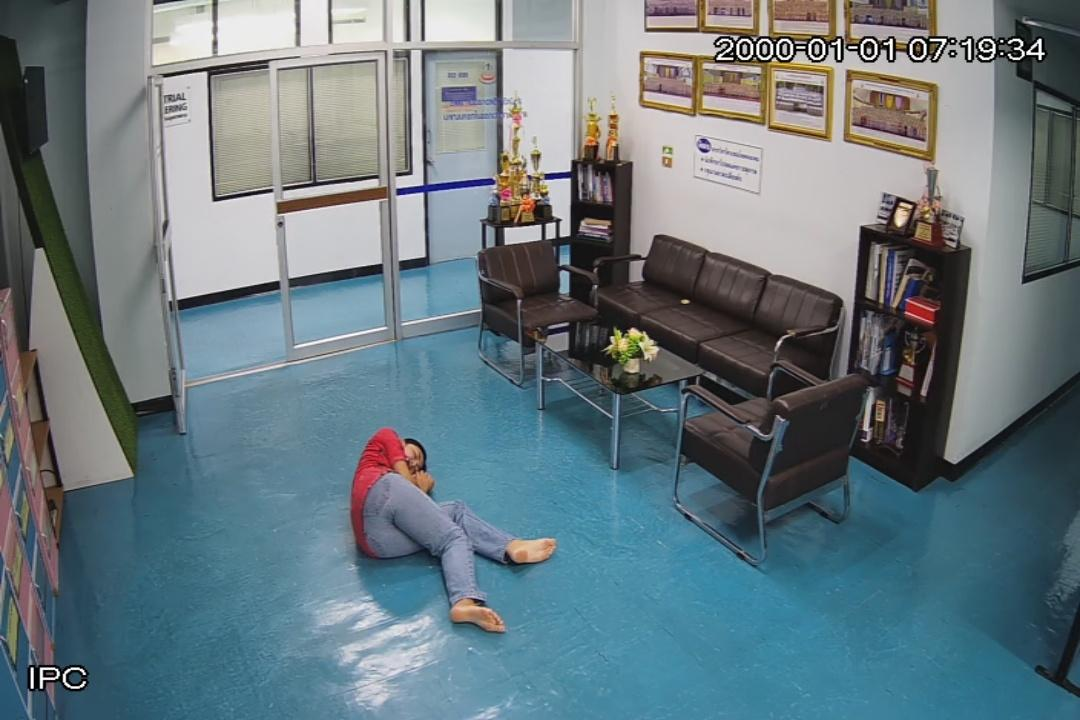fall: (353, 428, 552, 631)
